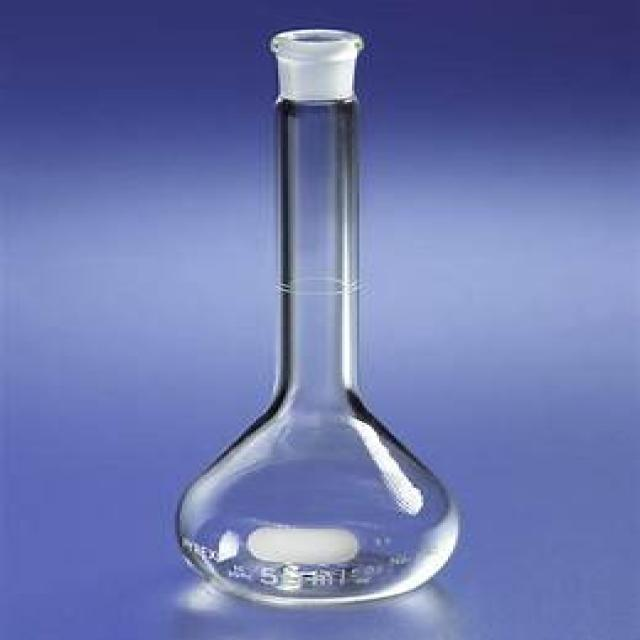Volumetric flask: (175, 31, 462, 601)
